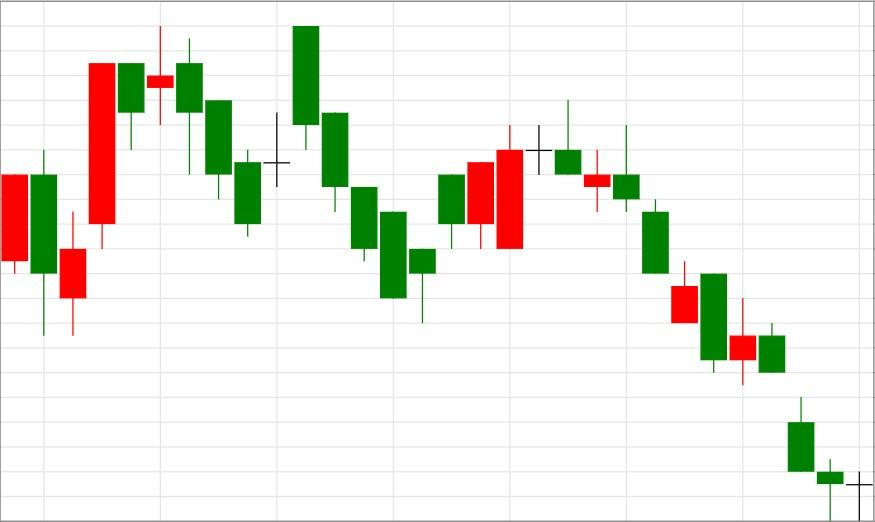hammer_rise: (292, 25, 437, 324)
shooting_star_fall: (408, 99, 582, 324)
three_black_crows_fall: (233, 26, 408, 298)
